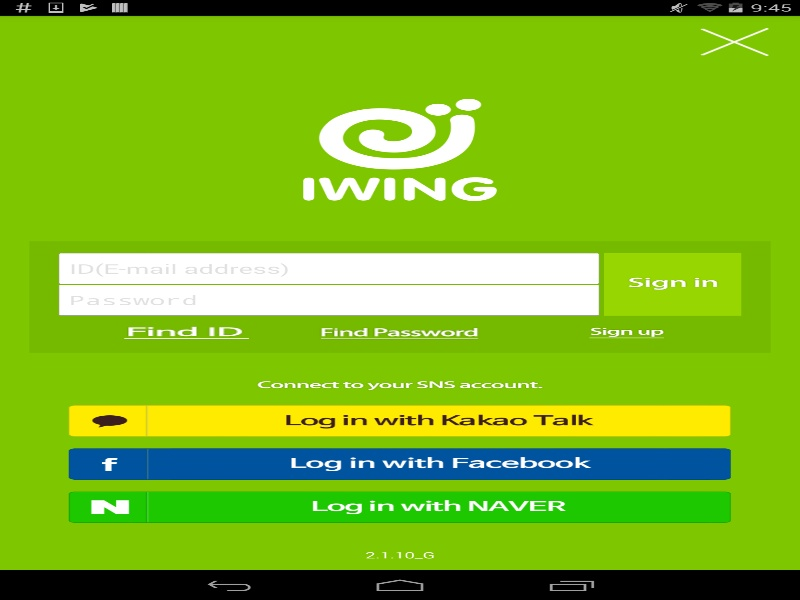Button: (68, 405, 730, 436), (68, 448, 730, 479), (68, 491, 730, 522), (604, 253, 741, 315), (318, 324, 479, 340), (121, 324, 254, 340), (698, 27, 770, 56), (574, 324, 678, 340)
Input: (58, 253, 599, 284), (58, 284, 599, 315)
